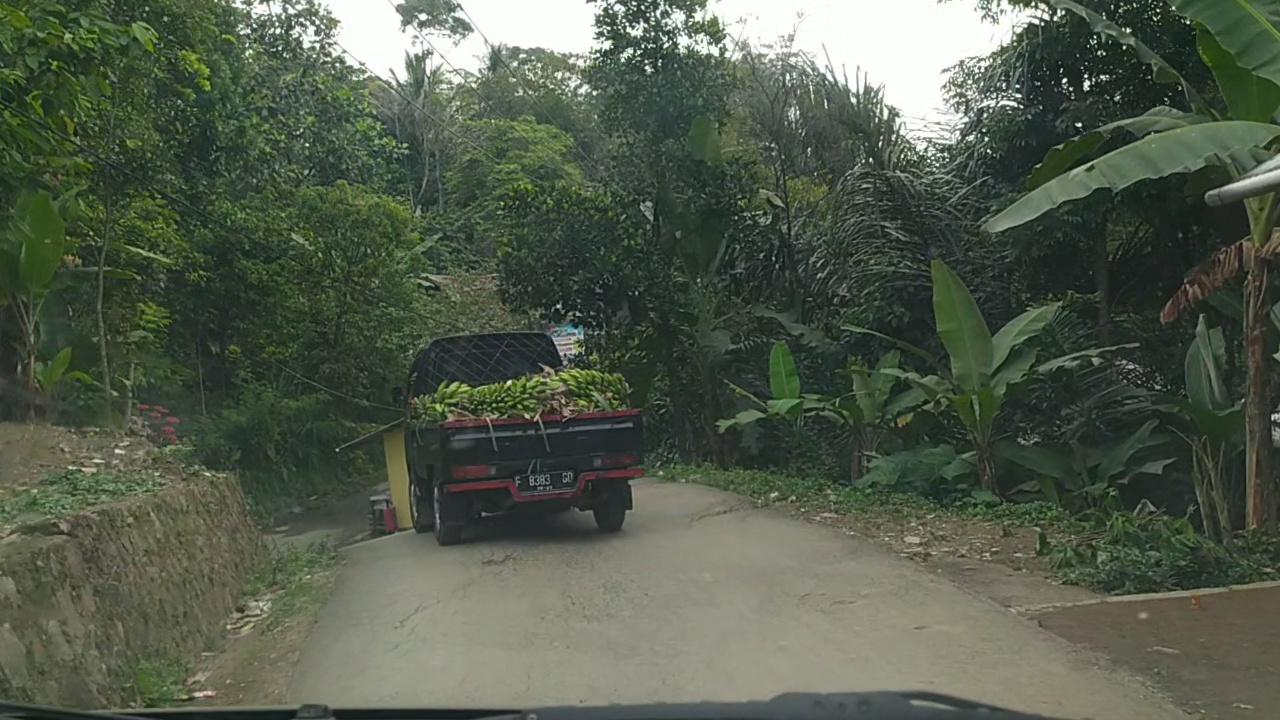pothole: (481, 553, 520, 567)
